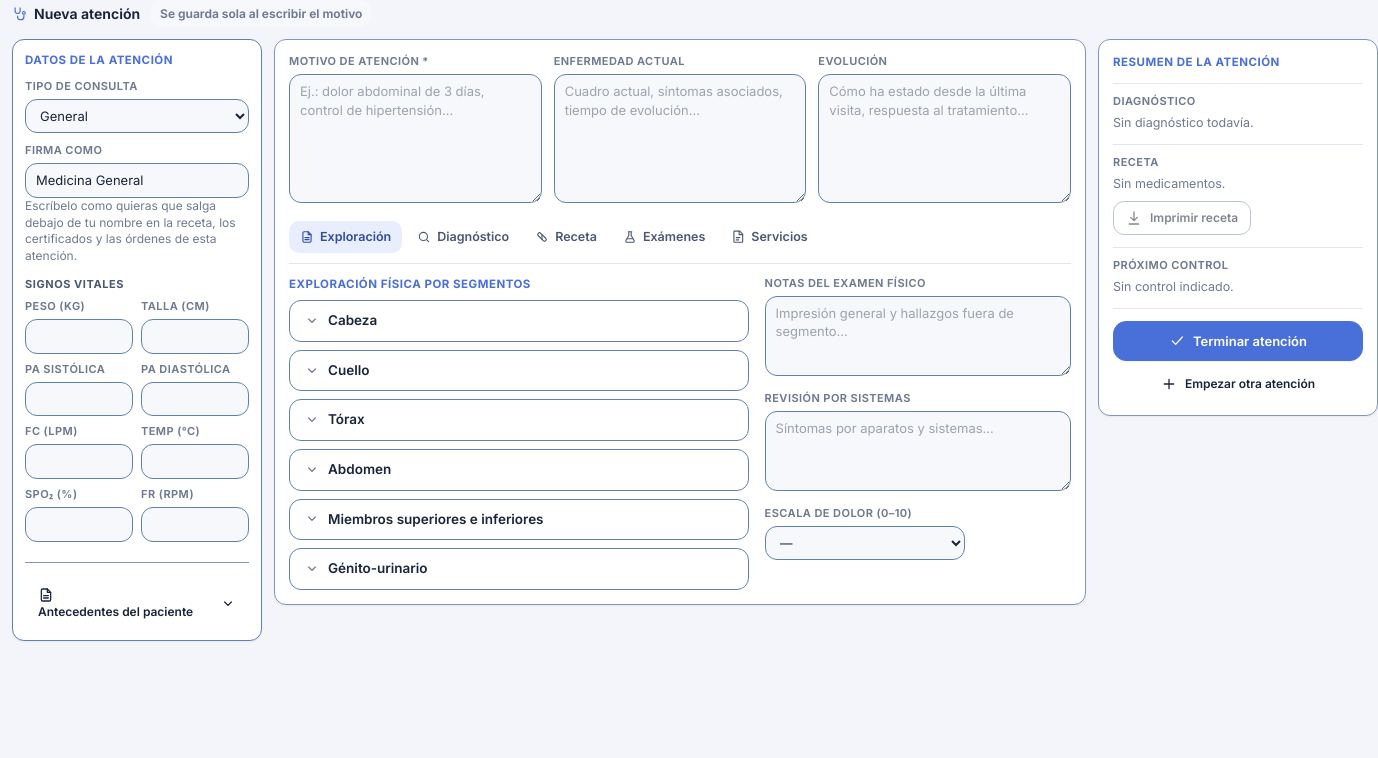
Encounter capability inventory › keeps the three-field prescription and PDF action
The image size is (1378, 758).
In the text box with placeholder "Ej.: dolor abdominal de 3 días, control de hipertensión…": coordinates (415, 139) [289, 74, 542, 203], type "Cefalea"
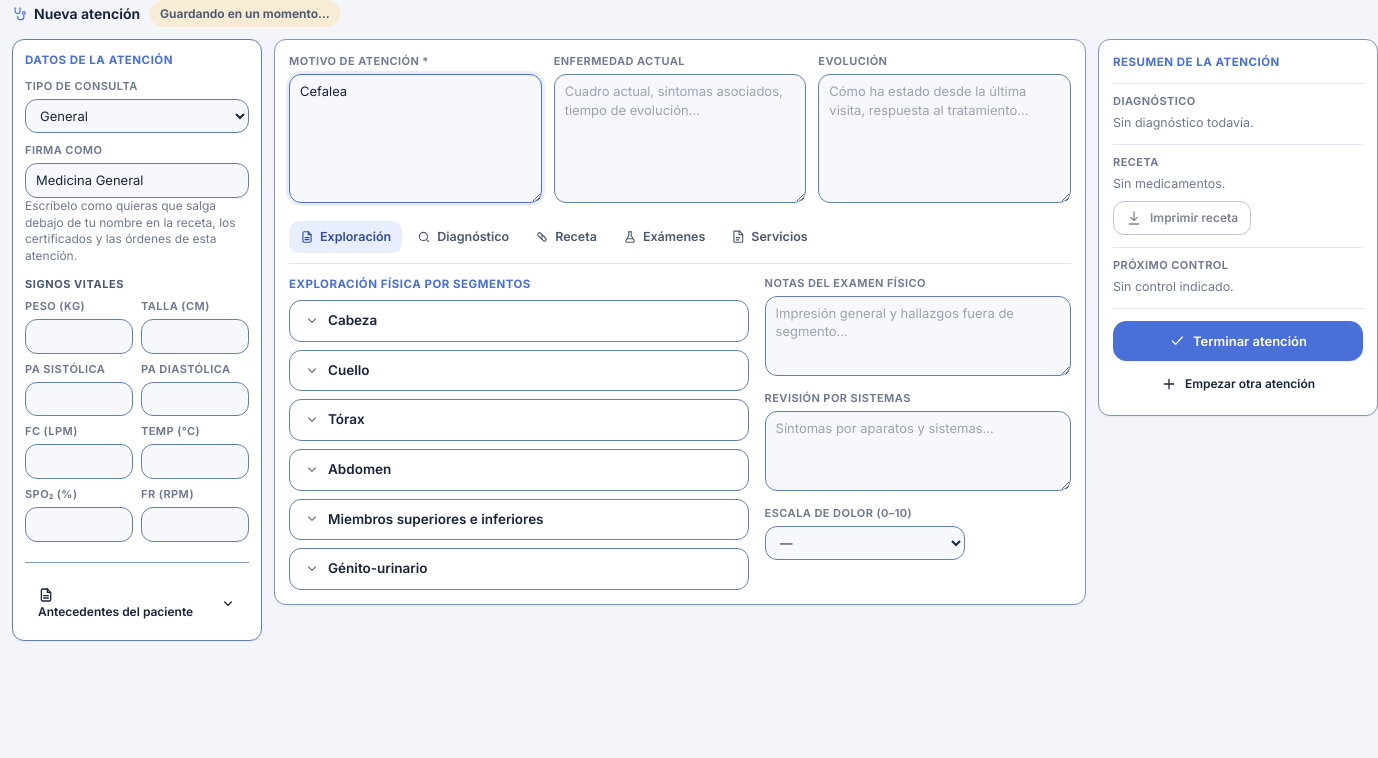
Click the tab "Receta": coordinates (566, 237) [524, 221, 608, 253]
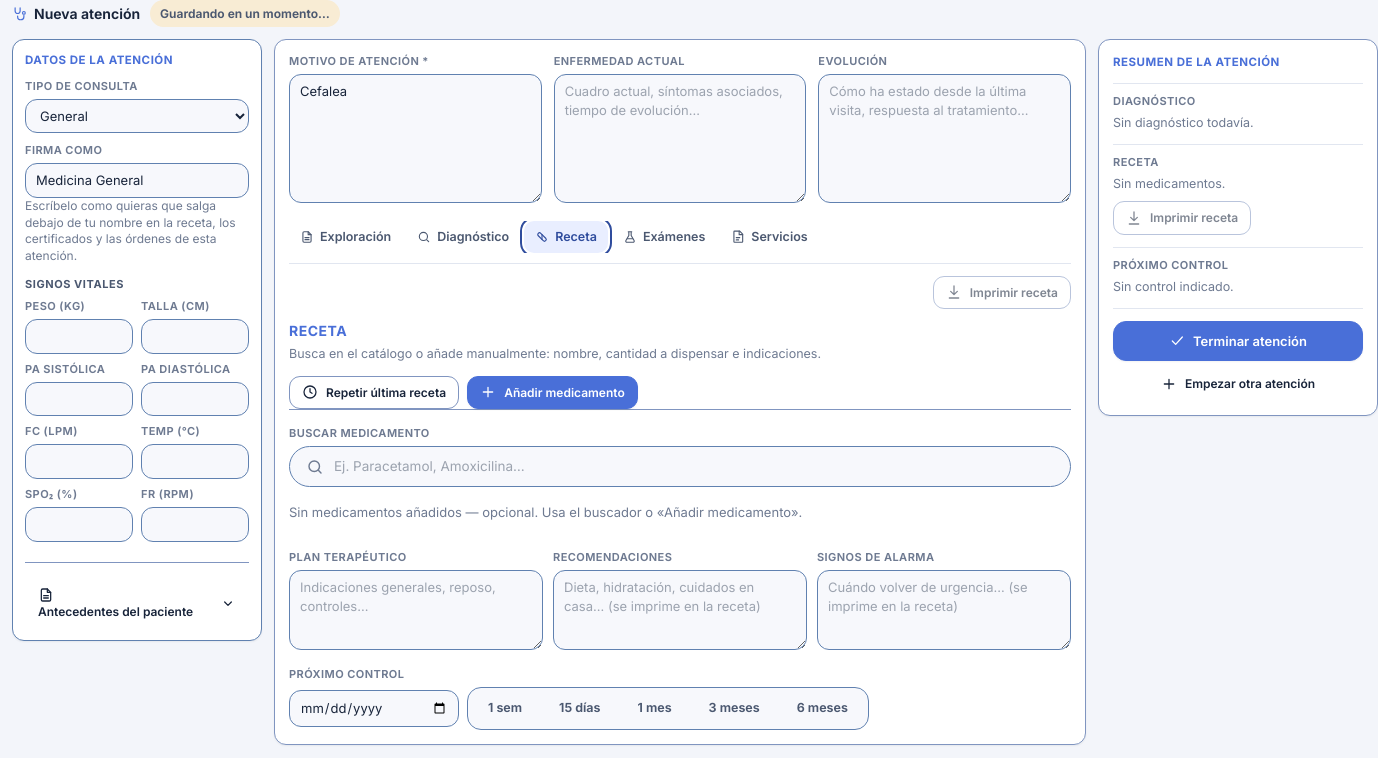
Click the button "Añadir medicamento": coordinates (552, 392) [467, 376, 638, 409]
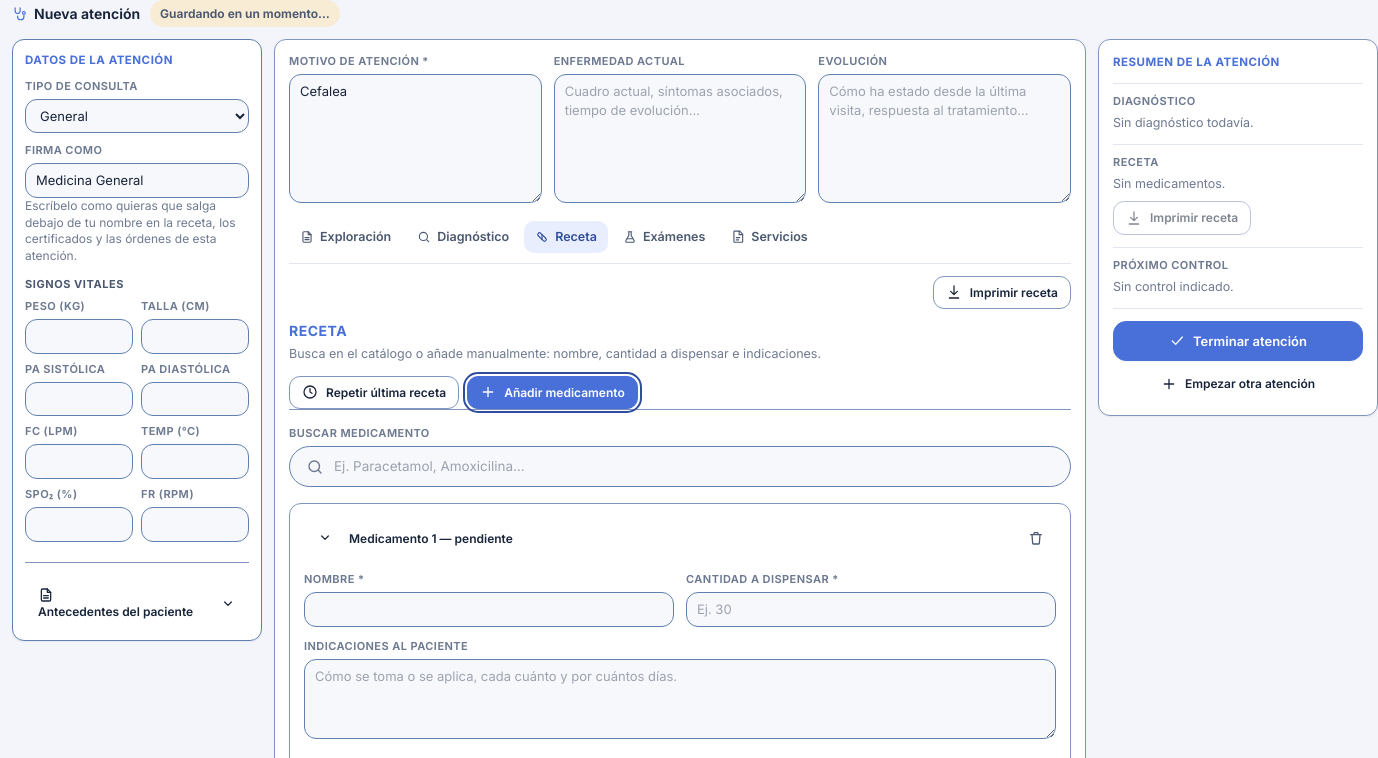
Result: the field labelled "Nombre *" is shown at [304, 592, 674, 627]
Result: the field labelled "Cantidad a dispensar *" is shown at [686, 592, 1056, 627]
Result: the text box labelled "Indicaciones al paciente" is shown at [304, 659, 1056, 739]
